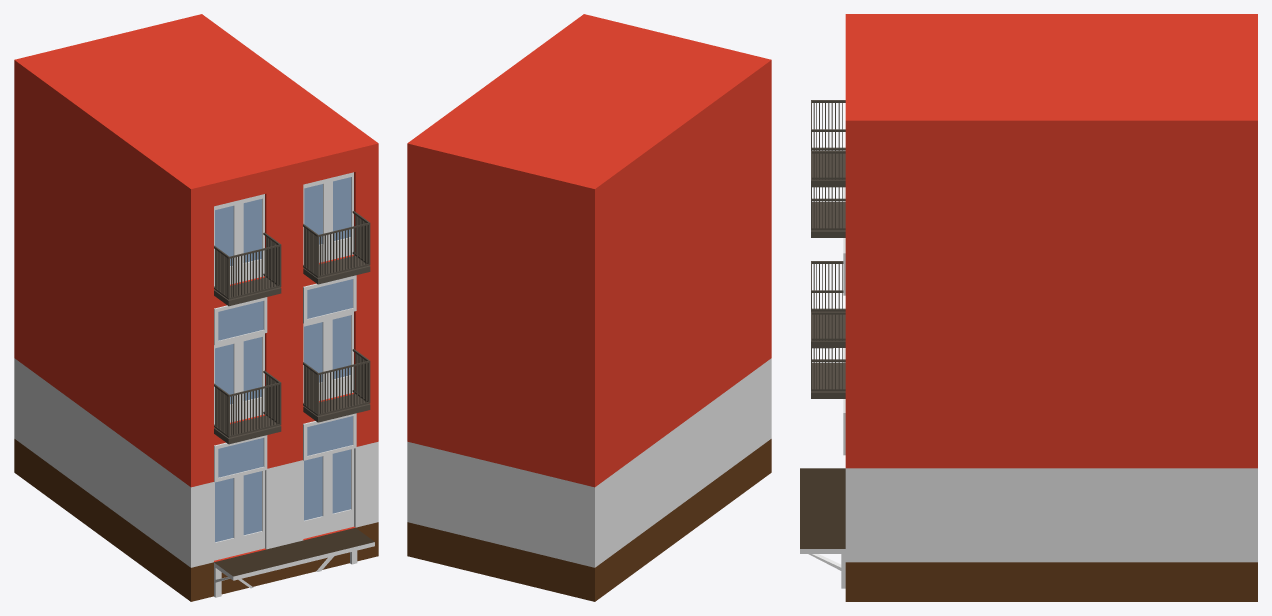
Rendered from modernGrachthuis4TEXTURED.fbx.
3 renders of one model, left to right at view 1: azimuth 30°, elevation 25°; view 2: azimuth 150°, elevation 25°; view 3: azimuth 270°, elevation 25°, orthographic. The views are drawn at different scales.
Visible parts, largest first — view 1: Plane, Plane.010, Plane.011, Plane.019; view 2: Plane; view 3: Plane, Plane.011, Plane.019.
Boxes of the visible parts, bbox=[...] form: Plane: bbox=[14, 14, 378, 601]; Plane.010: bbox=[214, 172, 356, 560]; Plane.011: bbox=[214, 211, 370, 444]; Plane.019: bbox=[214, 528, 374, 597]; Plane: bbox=[407, 14, 771, 601]; Plane: bbox=[845, 14, 1257, 601]; Plane.011: bbox=[811, 100, 845, 398]; Plane.019: bbox=[800, 468, 845, 588].
Size of the model in its own units: 115 by 242 by 209.
